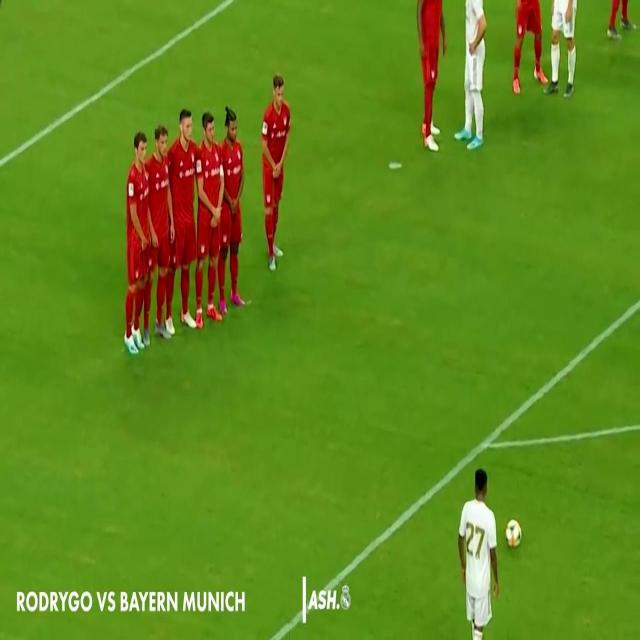ball: (502, 509, 526, 551)
player: (454, 459, 507, 640), (117, 130, 151, 362), (171, 105, 201, 335), (263, 71, 293, 274), (455, 0, 493, 155), (197, 113, 225, 322), (414, 0, 450, 159), (222, 105, 248, 307), (152, 123, 174, 343), (542, 0, 583, 100), (510, 0, 547, 100)
